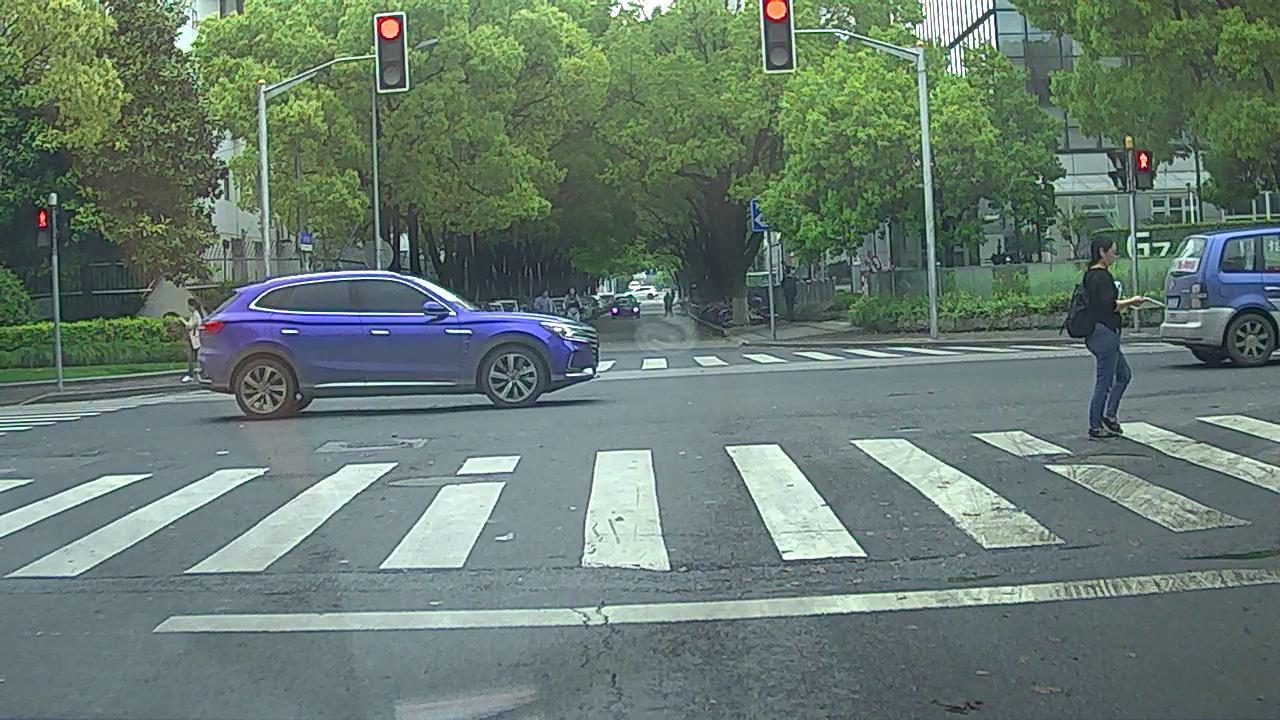traffic_light: (760, 1, 798, 70), (377, 14, 409, 90)
